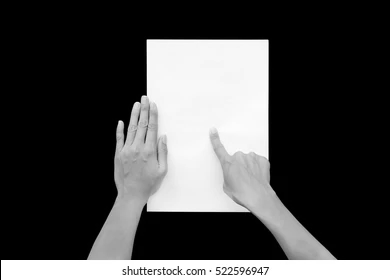pointing_gesture: (208, 127, 270, 213)
